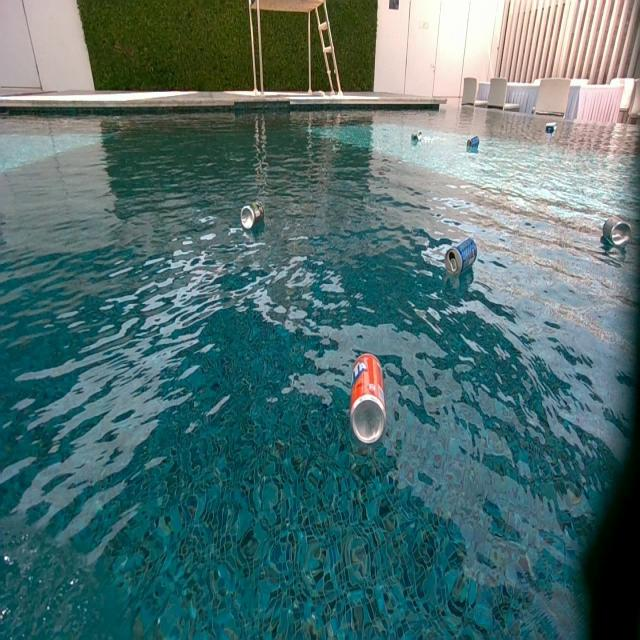Cans: (349, 352, 385, 444), (446, 236, 478, 277), (603, 218, 631, 248), (240, 202, 263, 228), (412, 130, 424, 146), (466, 136, 478, 149), (544, 124, 554, 134)
